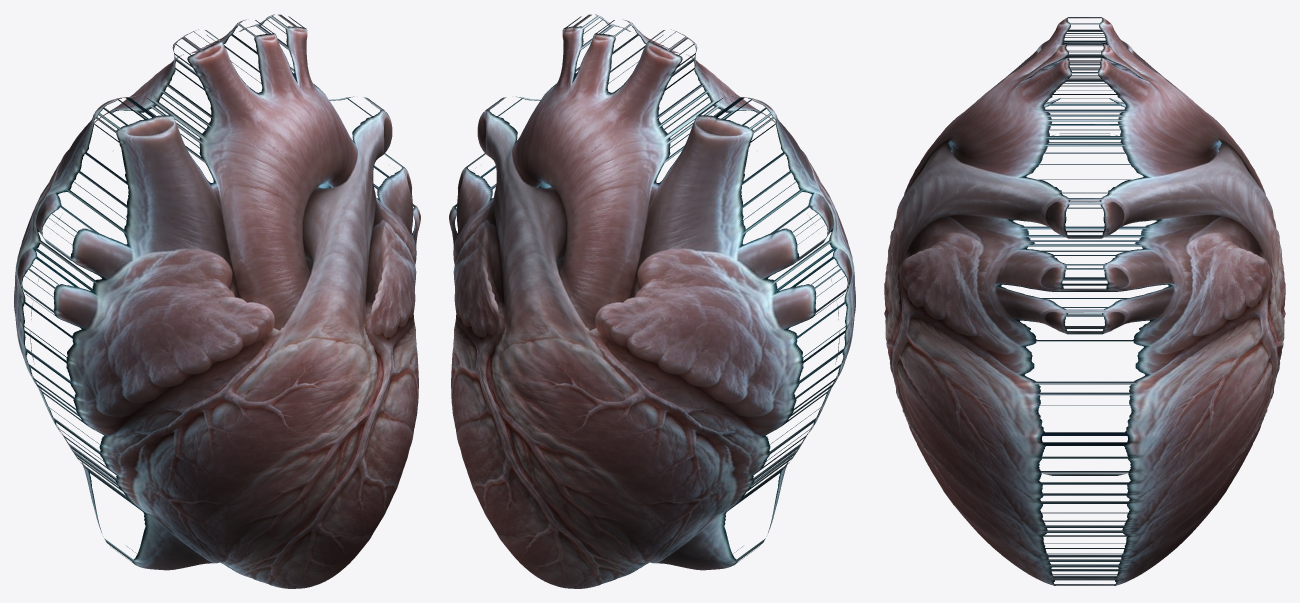
File: image-heart.glb
The picture shows the model from 3 angles, left to right: view 1: azimuth 30°, elevation 25°; view 2: azimuth 150°, elevation 25°; view 3: azimuth 270°, elevation 25°; orthographic projection. The views are drawn at different scales.
Visible parts, largest first — view 1: heart; view 2: heart; view 3: heart.
Boxes of the visible parts, <box> form: heart: <box>14,14,420,588</box>; heart: <box>449,14,855,588</box>; heart: <box>884,17,1285,585</box>.
Bounding box in the file's own units: 1.4 × 2 × 1.38.
Materials: 1 (1 with a texture image).
